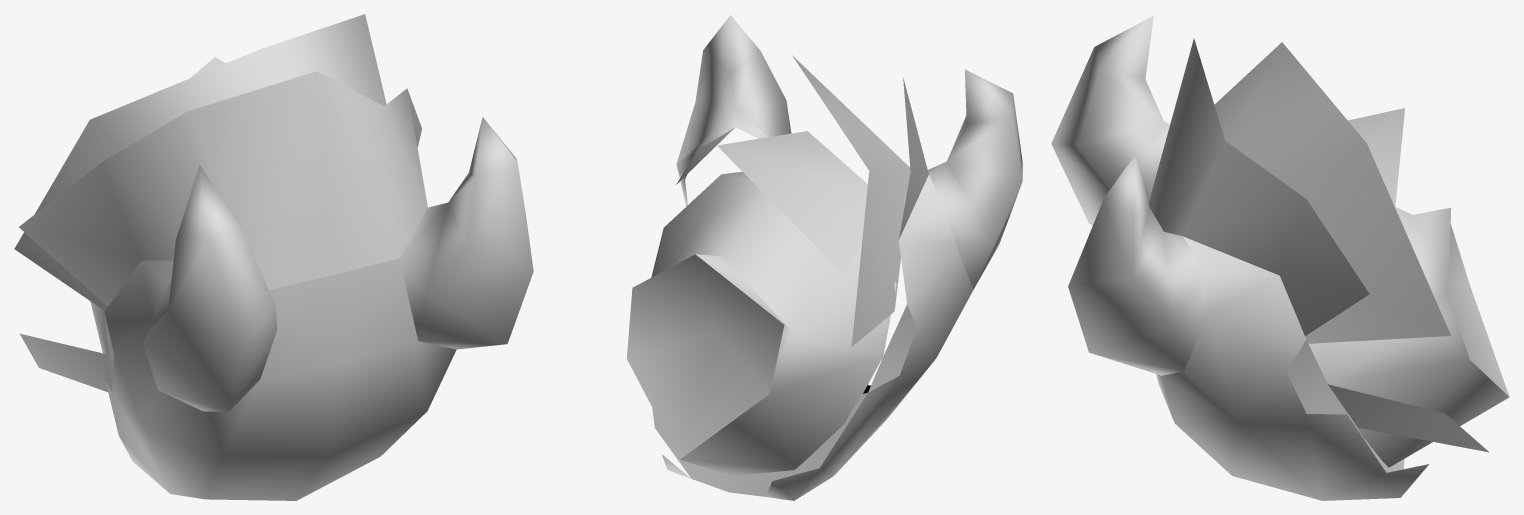
File: model_sleep.glb
3 views of the same model, side by side, from view 1: azimuth 30°, elevation 25°; view 2: azimuth 150°, elevation 25°; view 3: azimuth 270°, elevation 25° (orthographic). The views are drawn at different scales.
Parts seen in each view (by area): view 1: furmask.model_sleep-MeshNodes["mesh_spined_helmet"]; view 2: furmask.model_sleep-MeshNodes["mesh_spined_helmet"]; view 3: furmask.model_sleep-MeshNodes["mesh_spined_helmet"].
Part boxes in pixels (box(x1,y1,x2,y2)): furmask.model_sleep-MeshNodes["mesh_spined_helmet"]: box(14, 14, 533, 500); furmask.model_sleep-MeshNodes["mesh_spined_helmet"]: box(626, 15, 1022, 500); furmask.model_sleep-MeshNodes["mesh_spined_helmet"]: box(1051, 15, 1509, 500).
Bounding box in the file's own units: 0.6665 × 0.7435 × 0.6906.
Materials: 2 (1 with a texture image).
